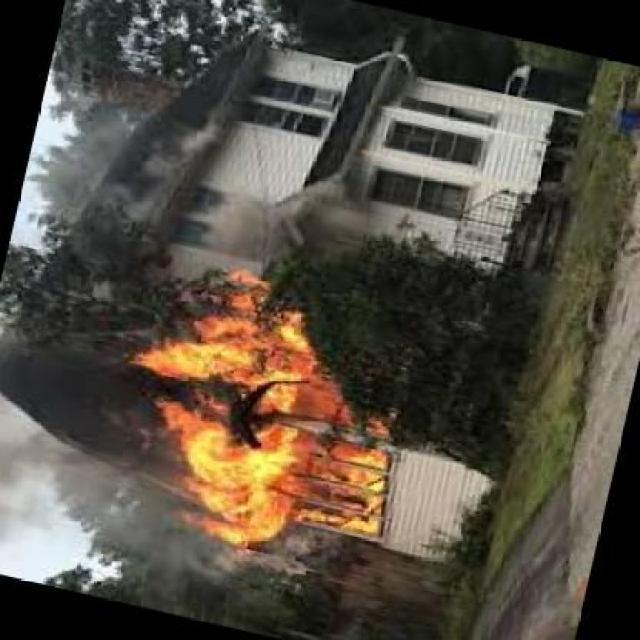Fire: (142, 272, 392, 567)
Smoke: (32, 123, 384, 272), (4, 442, 190, 591)
